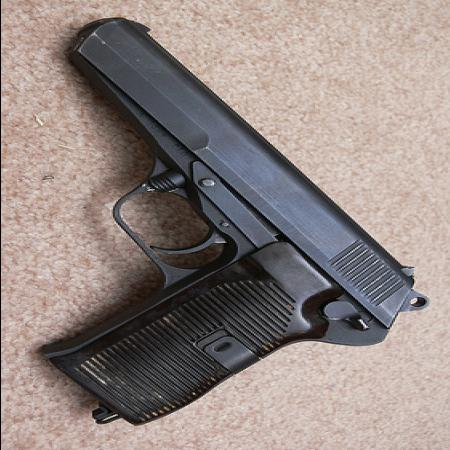Pistol: (62, 16, 426, 428)
